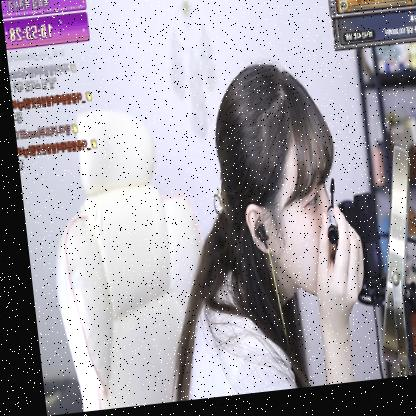streamer: (131, 59, 367, 405)
